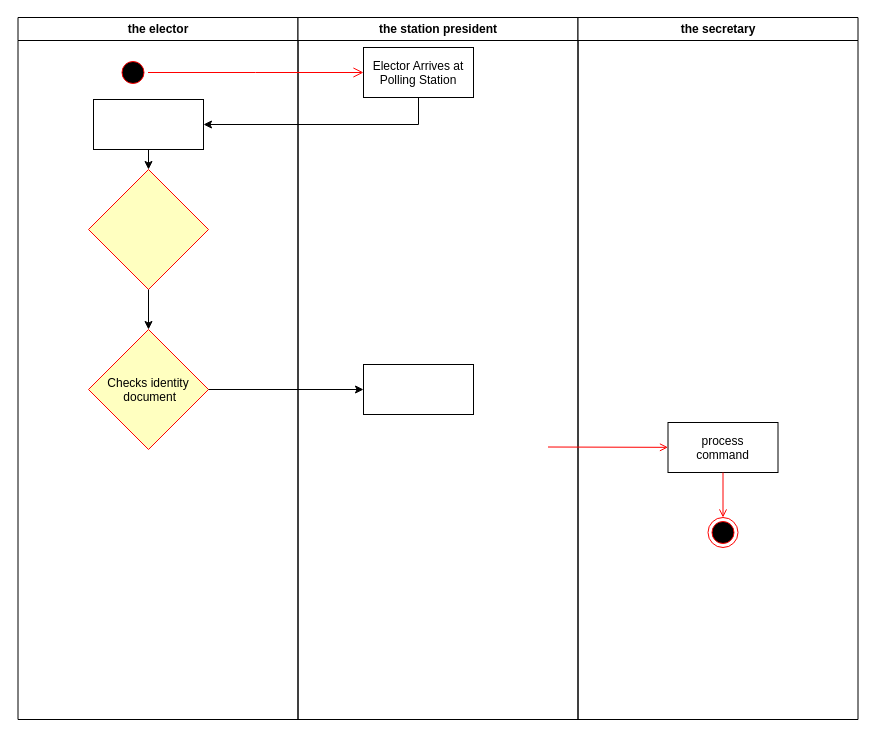
Some shapes in this 875 by 737 pixel diagram are drawn without their labels. The shapes that lost their labels are listed below. From the top down, each one's centre as x and y in pixels, then its label:
At pixel 148 124: "Gives electoral card".
At pixel 148 229: "Check Polling Station Number?".
At pixel 418 389: "Gives ballot paper".
